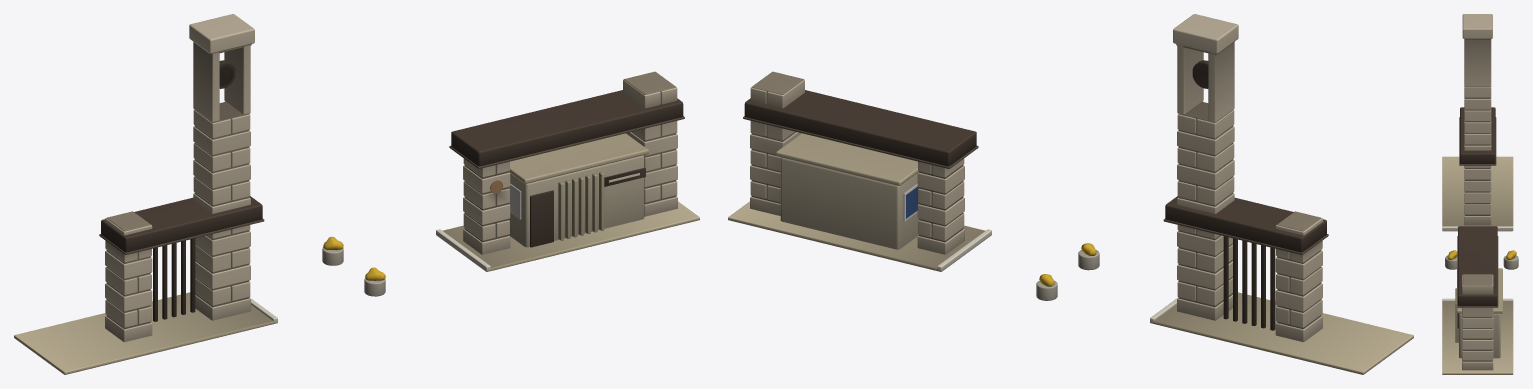
Rendered from gate.glb.
3 renders of one model, left to right at view 1: azimuth 30°, elevation 25°; view 2: azimuth 150°, elevation 25°; view 3: azimuth 270°, elevation 25°, orthographic. The views are drawn at different scales.
Visible parts, largest first — view 1: LM_gate; view 2: LM_gate; view 3: LM_gate.
Boxes of the visible parts, x1,y1,x2,y2 form: LM_gate: [14, 14, 699, 374]; LM_gate: [728, 14, 1413, 374]; LM_gate: [1442, 14, 1518, 374].
Bounding box in the file's own units: 24.5 × 10.52 × 3.66.
